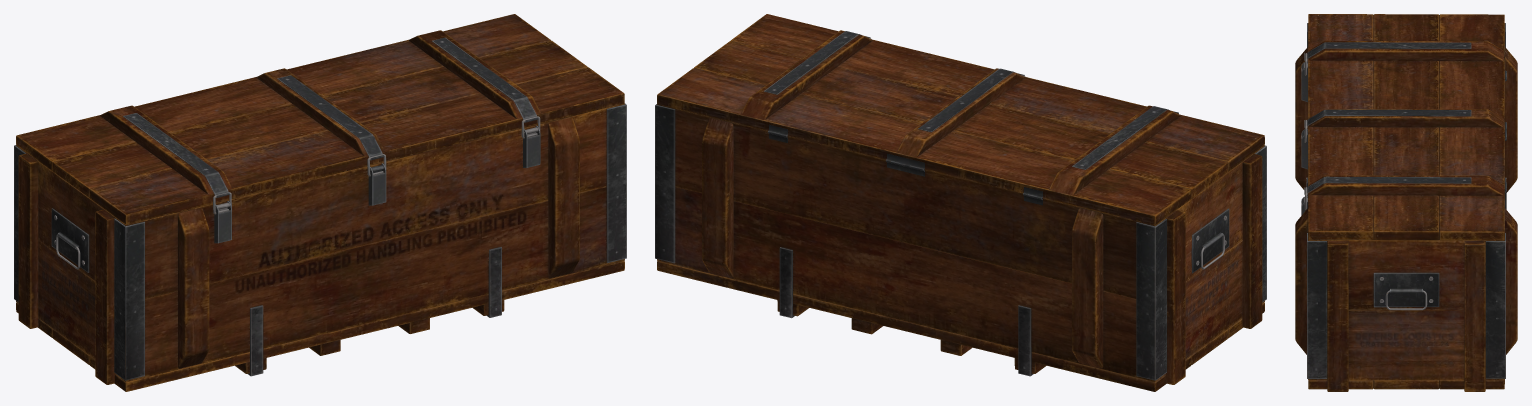
The model's file is wooden_military_crate.glb.
The picture shows the model from 3 angles, left to right: view 1: azimuth 30°, elevation 25°; view 2: azimuth 150°, elevation 25°; view 3: azimuth 270°, elevation 25°; orthographic projection. The views are drawn at different scales.
Visible parts, largest first — view 1: wooden_military_crate; view 2: wooden_military_crate; view 3: wooden_military_crate.
Part boxes in pixels (bbox=[...]): wooden_military_crate: bbox=[14, 14, 626, 391]; wooden_military_crate: bbox=[655, 14, 1266, 391]; wooden_military_crate: bbox=[1295, 14, 1517, 391].
Size of the model in its own units: 1.24 by 0.4647 by 0.5198.
Materials: 1 (1 with a texture image).
